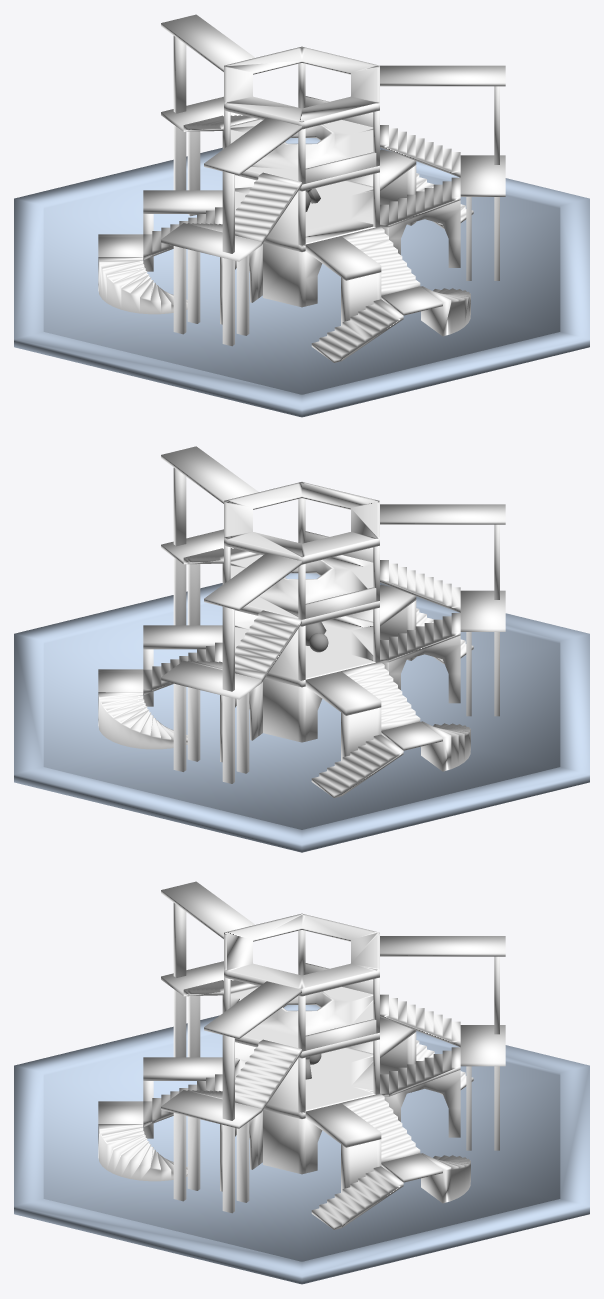
3 renders of one model, top to bottom at view 1: azimuth 30°, elevation 25°; view 2: azimuth 150°, elevation 25°; view 3: azimuth 270°, elevation 25°, orthographic.
Parts seen in each view (by area): view 1: Gengon009.004, Gengon012.004, LTypeStair005.004, UTypeStair010.004, Gengon008.004, UTypeStair009.004, Gengon011.004, Object014.004, SpiralStair002.004, Object004.004, Object010.004, Object023.004 (+18 smaller); view 2: Gengon009.004, Gengon012.004, LTypeStair004.004, UTypeStair009.004, Gengon011.004, UTypeStair007.004, Gengon008.004, Object012.004, SpiralStair001.004, Object004.004, Object023.004, Object021.004 (+18 smaller); view 3: Gengon009.004, Gengon012.004, LTypeStair006.004, UTypeStair007.004, Gengon008.004, Gengon011.004, UTypeStair010.004, Object016.004, SpiralStair003.004, Object004.004, Object021.004, Object010.004 (+18 smaller).
Part boxes in pixels (x1,y1,x2,y2): Gengon009.004: [14, 138, 589, 417]; Gengon012.004: [224, 46, 379, 129]; LTypeStair005.004: [311, 226, 442, 362]; UTypeStair010.004: [380, 125, 505, 227]; Gengon008.004: [235, 175, 375, 251]; UTypeStair009.004: [161, 172, 301, 261]; Gengon011.004: [230, 119, 379, 191]; Object014.004: [173, 246, 249, 346]; SpiralStair002.004: [98, 257, 187, 314]; Object004.004: [263, 243, 322, 307]; Object010.004: [380, 65, 505, 86]; Object023.004: [204, 117, 301, 175]; Gengon009.004: [14, 573, 589, 852]; Gengon012.004: [224, 482, 379, 564]; LTypeStair004.004: [311, 661, 442, 798]; UTypeStair009.004: [380, 560, 505, 662]; Gengon011.004: [230, 554, 379, 626]; UTypeStair007.004: [161, 610, 301, 699]; Gengon008.004: [235, 610, 375, 687]; Object012.004: [173, 683, 249, 783]; SpiralStair001.004: [98, 692, 187, 749]; Object004.004: [263, 678, 322, 742]; Object023.004: [380, 504, 505, 524]; Object021.004: [204, 553, 301, 610]; Gengon009.004: [14, 1005, 589, 1284]; Gengon012.004: [224, 913, 379, 996]; LTypeStair006.004: [311, 1093, 442, 1229]; UTypeStair007.004: [380, 994, 505, 1096]; Gengon008.004: [235, 1042, 375, 1118]; Gengon011.004: [230, 986, 379, 1058]; UTypeStair010.004: [161, 1039, 301, 1128]; Object016.004: [173, 1113, 249, 1213]; SpiralStair003.004: [98, 1124, 187, 1181]; Object004.004: [263, 1110, 322, 1174]; Object021.004: [380, 936, 505, 956]; Object010.004: [204, 981, 301, 1038].
Size of the model in its own units: 38.66 by 12.33 by 33.48.
